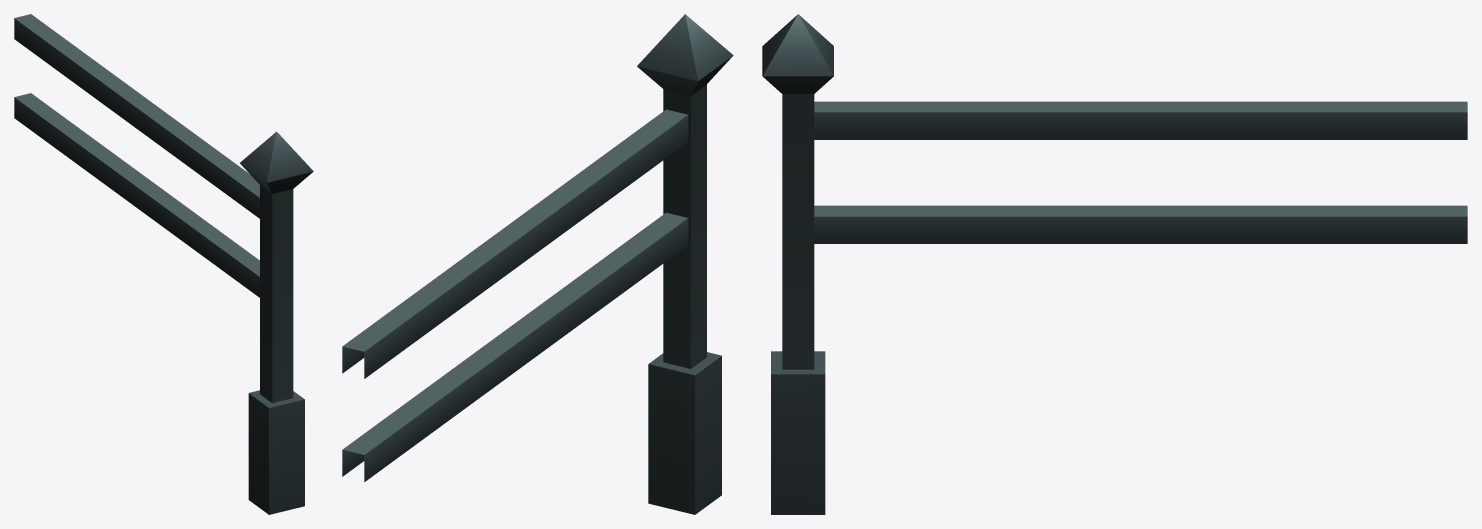
Rendered from Metal_Fence_3A.fbx.
3 renders of one model, left to right at view 1: azimuth 30°, elevation 25°; view 2: azimuth 150°, elevation 25°; view 3: azimuth 270°, elevation 25°, orthographic. The views are drawn at different scales.
Visible parts, largest first — view 1: Metal_Fence_3A; view 2: Metal_Fence_3A; view 3: Metal_Fence_3A.
Boxes of the visible parts, left/top/right/bottom form: Metal_Fence_3A: left=14, top=14, right=313, bottom=514; Metal_Fence_3A: left=342, top=14, right=733, bottom=514; Metal_Fence_3A: left=762, top=14, right=1467, bottom=514.
Size of the model in its own units: 21.8 by 165 by 215.
